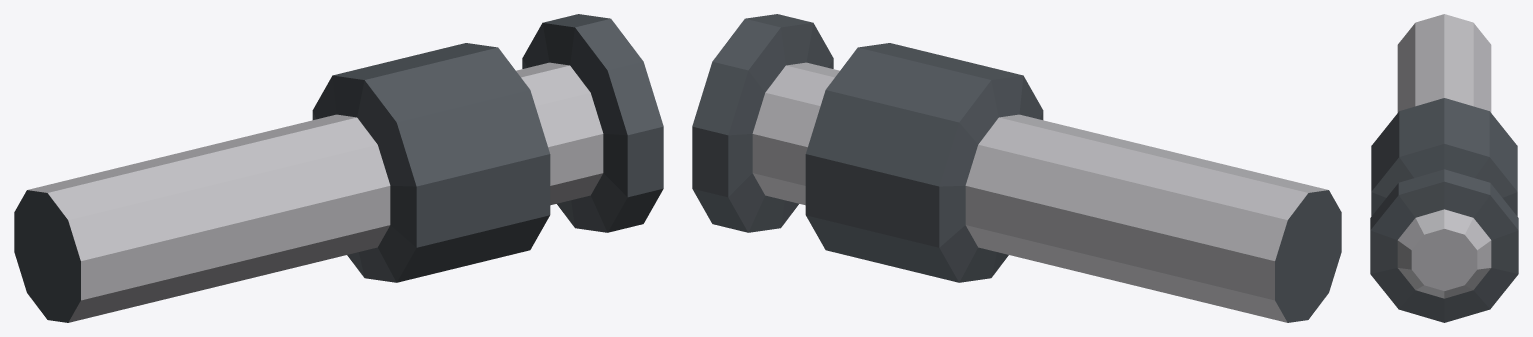
Rendered from Personal_Vehicle_01_Footrest.fbx.
3 renders of one model, left to right at view 1: azimuth 30°, elevation 25°; view 2: azimuth 150°, elevation 25°; view 3: azimuth 270°, elevation 25°, orthographic. The views are drawn at different scales.
Parts seen in each view (by area): view 1: Personal_Vehicle_01_Footrest; view 2: Personal_Vehicle_01_Footrest; view 3: Personal_Vehicle_01_Footrest.
Boxes of the visible parts, x1,y1,x2,y2 form: Personal_Vehicle_01_Footrest: (14,14,663,322); Personal_Vehicle_01_Footrest: (692,14,1341,322); Personal_Vehicle_01_Footrest: (1370,14,1518,322).
Size of the model in its own units: 36.53 by 11.96 by 11.37.
Materials: 1 (1 with a texture image).
